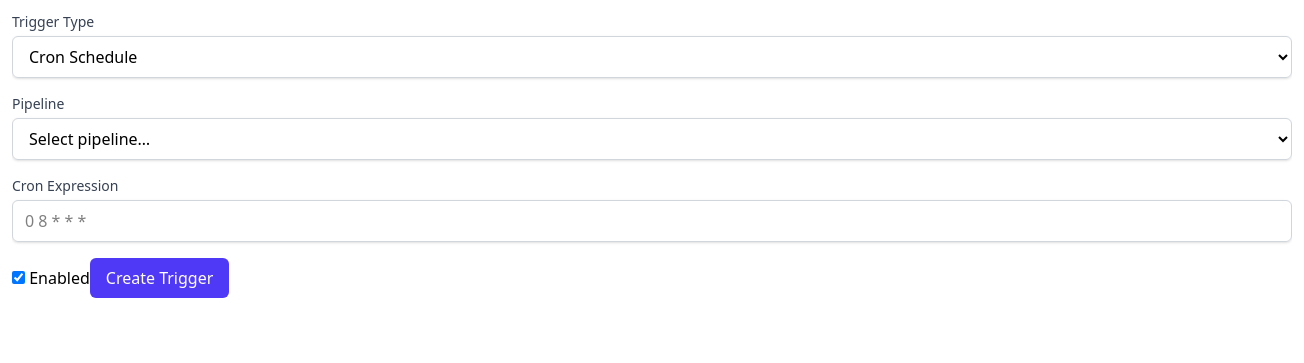
Test: TriggerForm › submitting with no pipeline selected shows validation error
This screenshot has width=1304, height=363.
Click the button "Create Trigger". click: (160, 278)
box: [90,258,229,298]
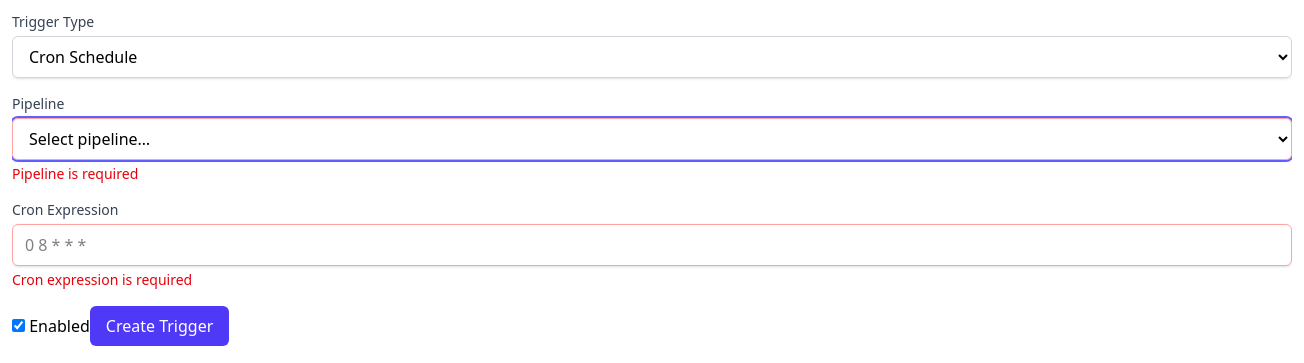
Now the text "Pipeline is required" is shown, box [12,164,138,183]
